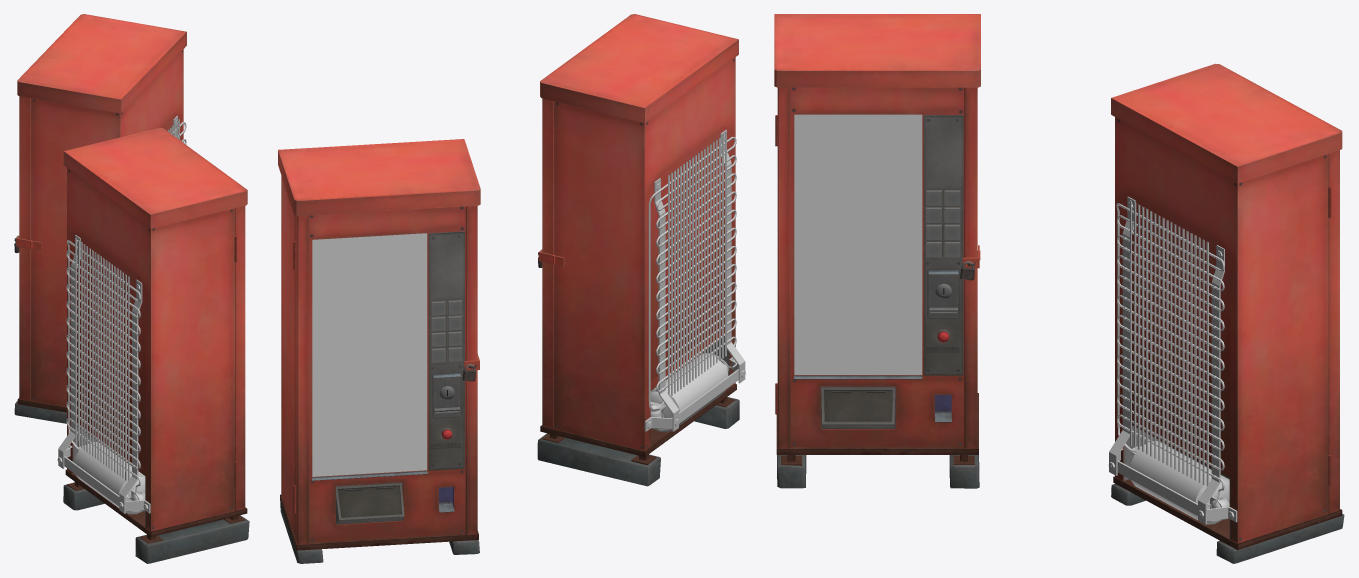
The model's file is wending2.fbx.
The picture shows the model from 3 angles, left to right: view 1: azimuth 30°, elevation 25°; view 2: azimuth 150°, elevation 25°; view 3: azimuth 270°, elevation 25°; orthographic projection. The views are drawn at different scales.
Parts seen in each view (by area): view 1: Cylinder.002, Cylinder.003, Cube.002; view 2: Cylinder.002, Cylinder.003, Cylinder.004, Cube.002; view 3: Cylinder.003, Cylinder.002, Cylinder.001, Cube.001.
Boxes of the visible parts, x1,y1,x2,y2 form: Cylinder.002: (63, 127, 249, 563); Cylinder.003: (14, 14, 186, 423); Cube.002: (57, 235, 150, 514); Cylinder.002: (537, 14, 739, 486); Cylinder.003: (278, 139, 480, 563); Cylinder.004: (312, 233, 427, 476); Cube.002: (644, 129, 745, 432); Cylinder.003: (1111, 63, 1344, 563); Cylinder.002: (774, 14, 980, 488); Cylinder.001: (794, 114, 922, 374); Cube.001: (1108, 196, 1237, 524).
Bounding box in the file's own units: 342 × 460 × 570.
